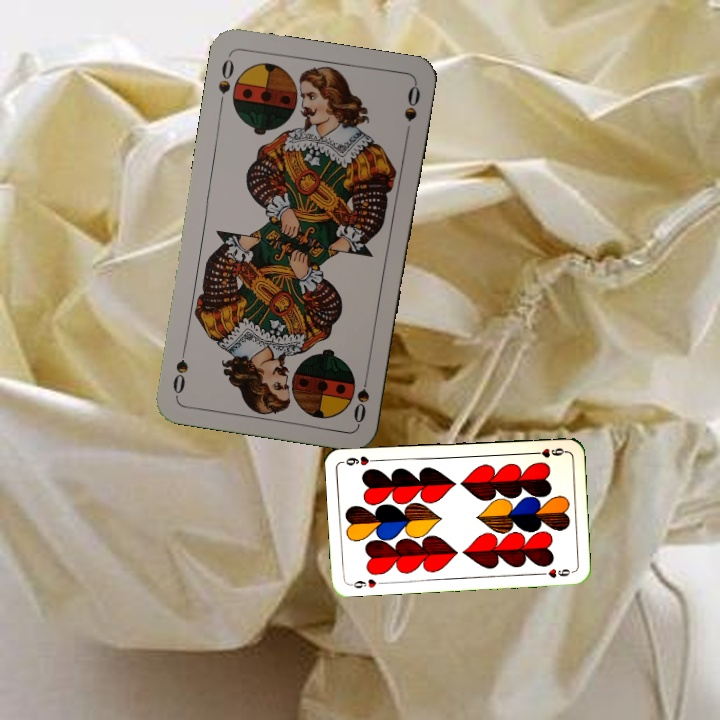H9: (528, 444, 568, 460), (346, 575, 379, 591)
SO: (349, 367, 372, 426), (214, 52, 237, 111)
